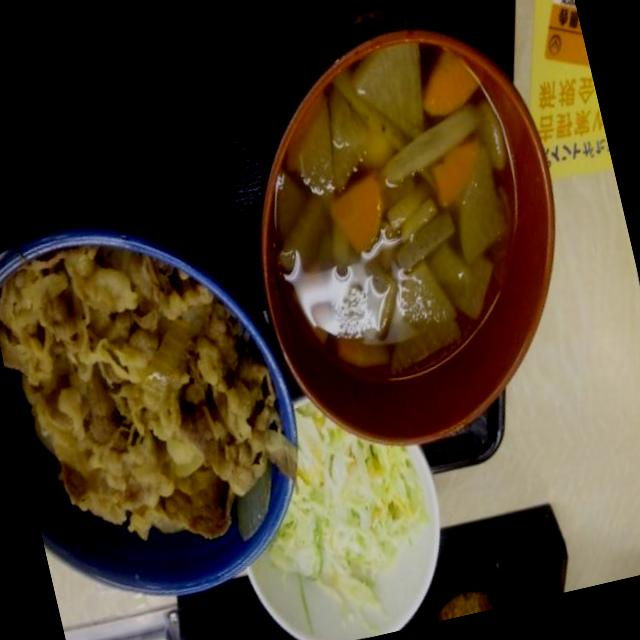Green Salad: (220, 432, 467, 640)
